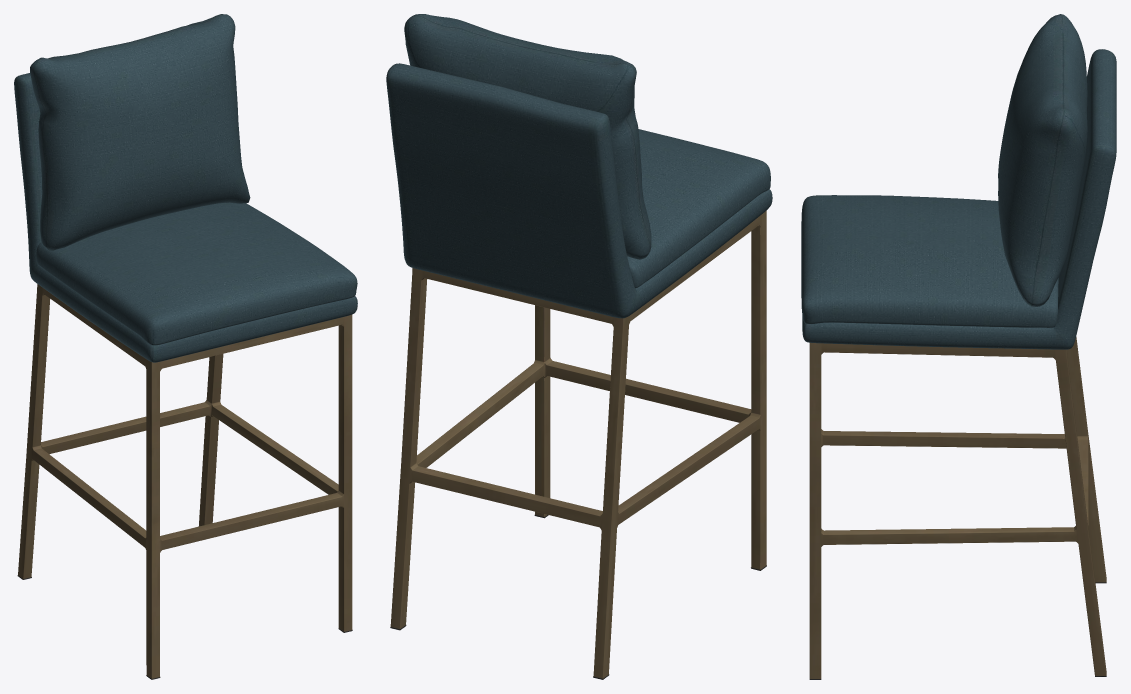
3 views of the same model, side by side, from view 1: azimuth 30°, elevation 25°; view 2: azimuth 150°, elevation 25°; view 3: azimuth 270°, elevation 25° (orthographic). The views are drawn at different scales.
Parts seen in each view (by area): view 1: RootNode; view 2: RootNode; view 3: RootNode.
Boxes of the visible parts, left/top/right/bottom form: RootNode: left=14, top=14, right=357, bottom=679; RootNode: left=386, top=14, right=772, bottom=679; RootNode: left=801, top=14, right=1116, bottom=679.
Bounding box in the file's own units: 0.4627 × 1.12 × 0.5676.
1 material, 1 textured.
